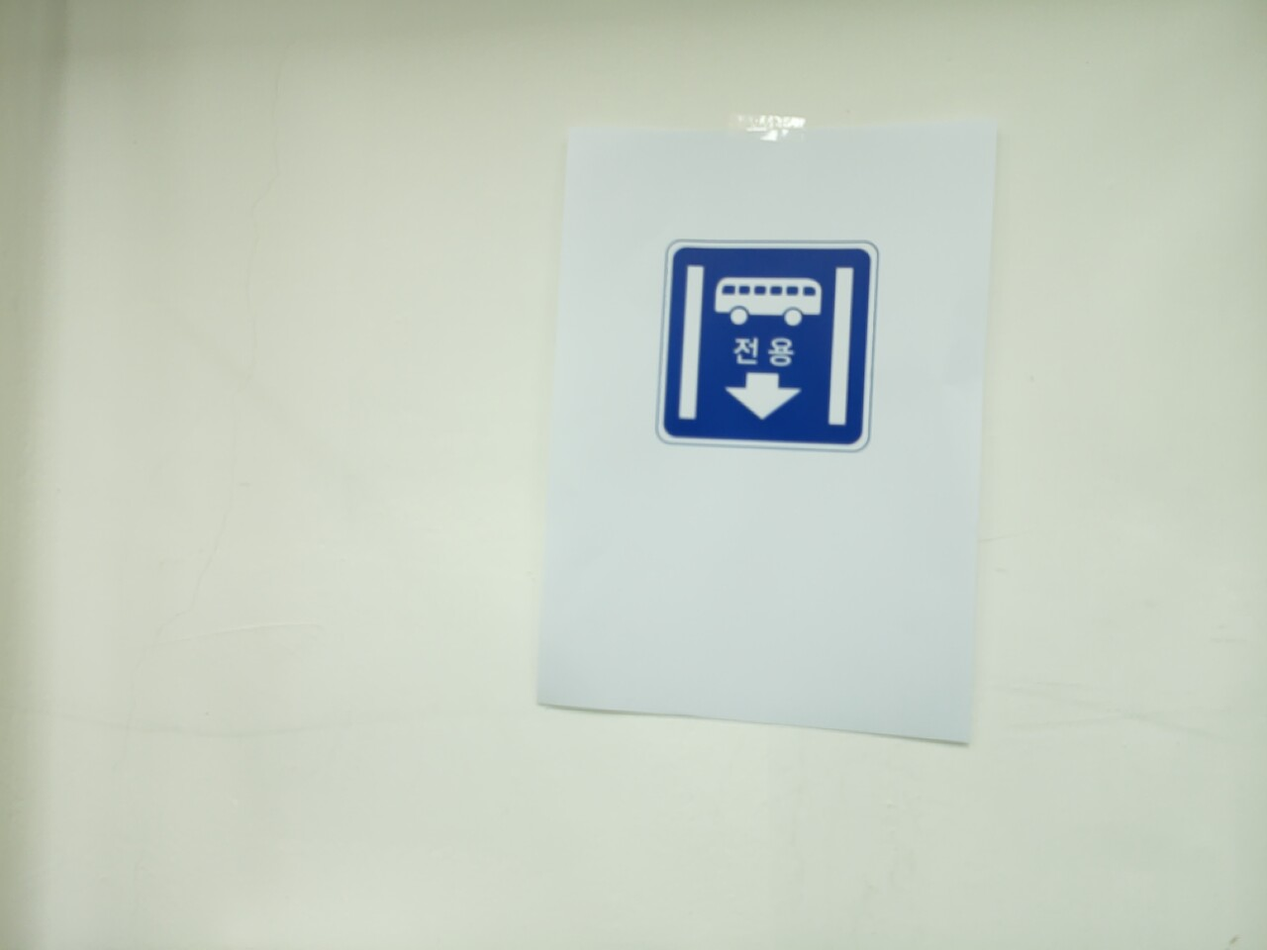bus_only_lane: (655, 238, 879, 453)
